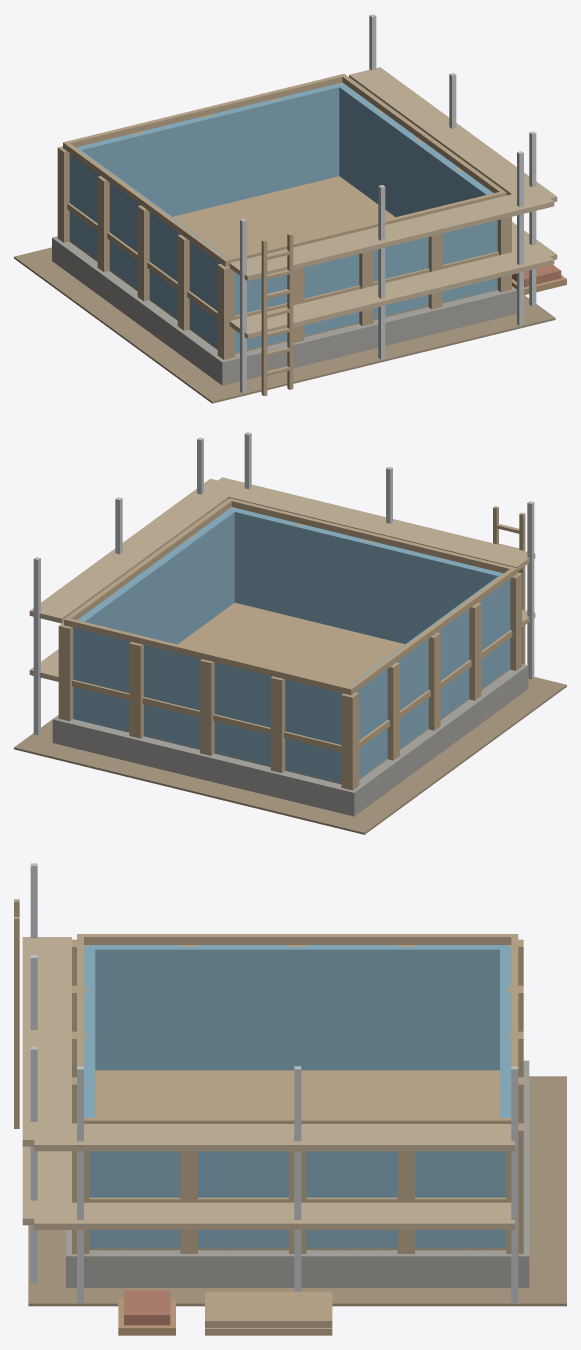
The model's file is duck_pond_site_8.glb.
3 views of the same model, one above another, from view 1: azimuth 30°, elevation 25°; view 2: azimuth 150°, elevation 25°; view 3: azimuth 270°, elevation 25° (orthographic). The views are drawn at different scales.
Visible parts, largest first — view 1: body; view 2: body; view 3: body.
Boxes of the visible parts, x1=… form: body: x1=14, y1=14, x2=566, y2=403; body: x1=14, y1=432, x2=566, y2=834; body: x1=14, y1=863, x2=566, y2=1335.
Bounding box in the file's own units: 2.1 × 0.9 × 1.91.
